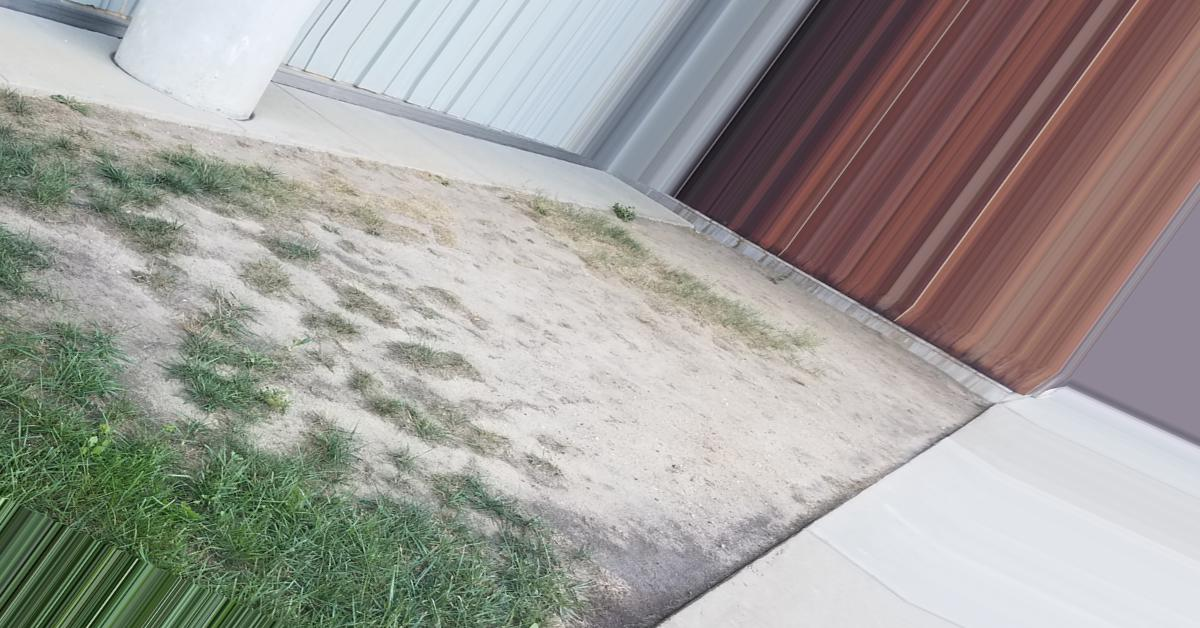patch: (446, 232, 720, 535), (229, 222, 428, 409), (751, 332, 901, 461), (79, 223, 194, 332), (396, 185, 485, 220)
